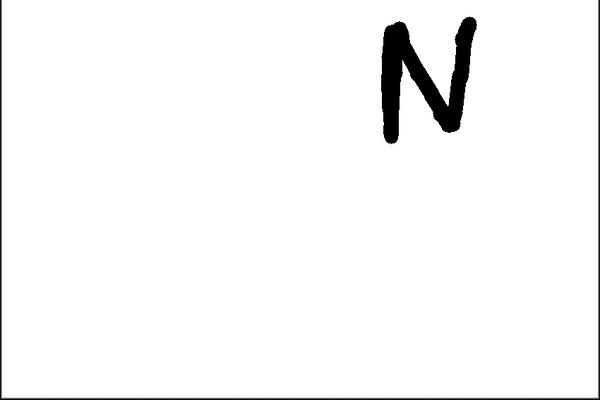N: (373, 11, 481, 150)
